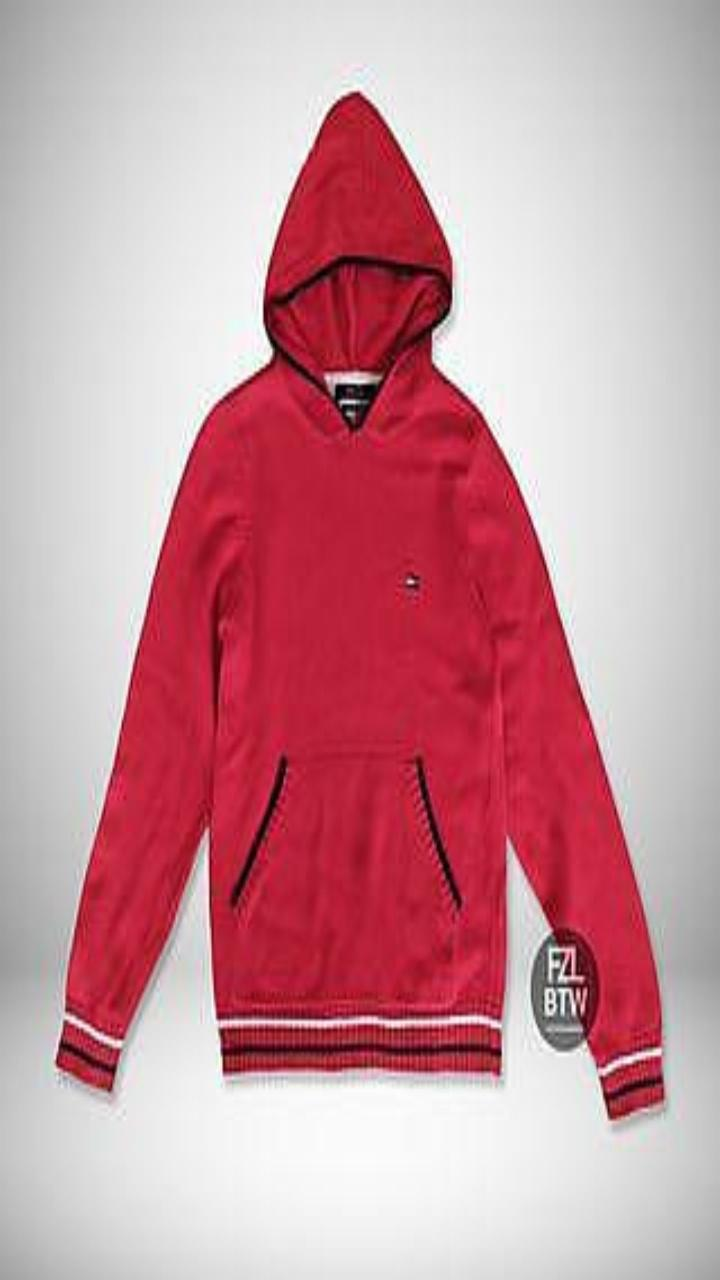Sports_Jacket: (56, 92, 663, 1118)
